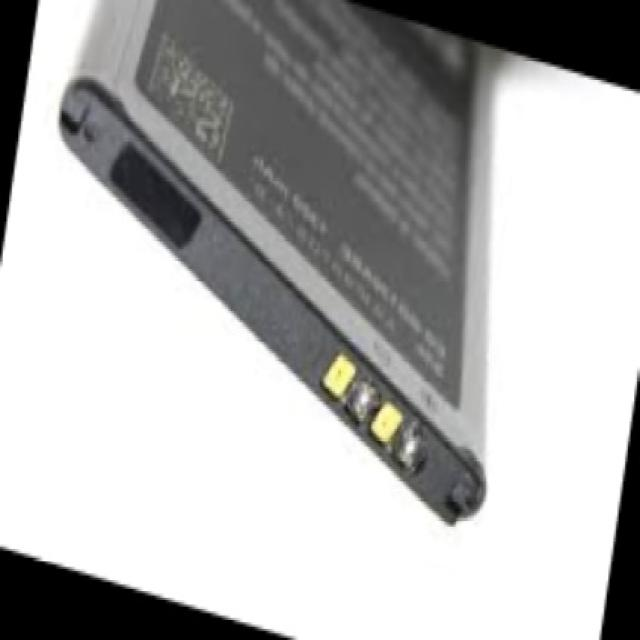elektronik: (64, 0, 490, 513)
